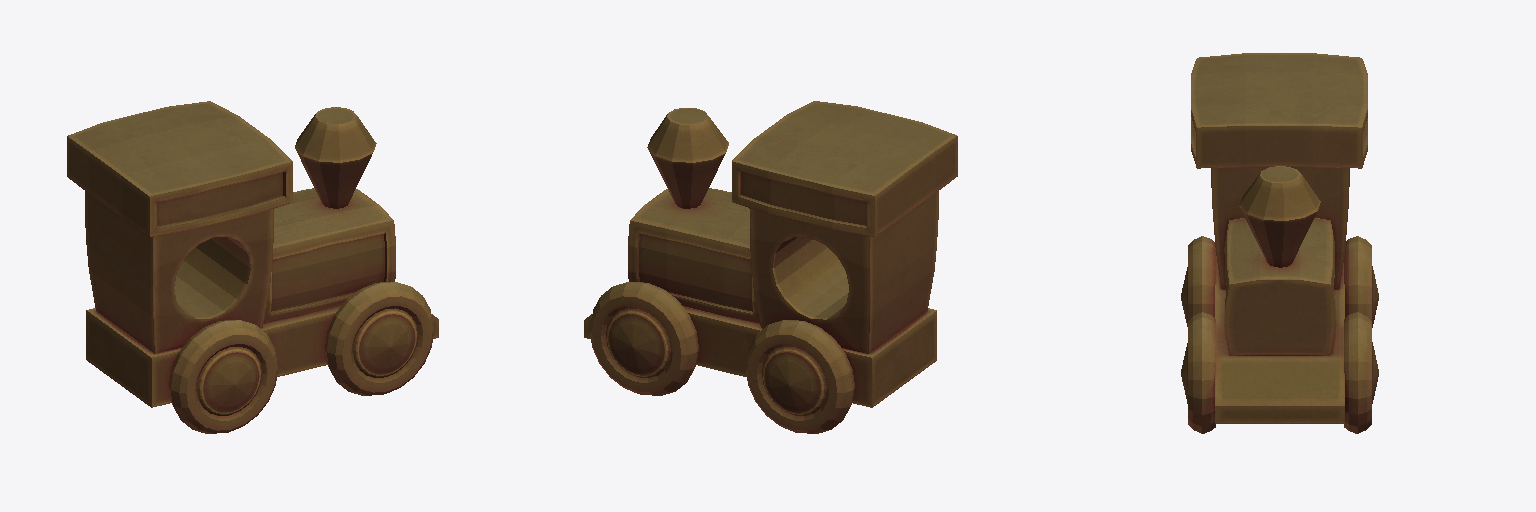
The picture shows the model from 3 angles: view 1: azimuth 30°, elevation 25°; view 2: azimuth 150°, elevation 25°; view 3: azimuth 270°, elevation 25°; orthographic projection.
Visible parts, largest first — view 1: pasted__pCube14_Mesh, pasted__polySurface2_Mesh.003, pasted__pCube16_Mesh.002, pasted__pCylinder13_Mesh.008, pasted__pCylinder12_Mesh.007, pasted__pCube15_Mesh.001, pasted__pCylinder6_Mesh.004; view 2: pasted__pCube14_Mesh, pasted__polySurface2_Mesh.003, pasted__pCube16_Mesh.002, pasted__pCylinder11_Mesh.006, pasted__pCylinder8_Mesh.005, pasted__pCube15_Mesh.001, pasted__pCylinder6_Mesh.004; view 3: pasted__pCube14_Mesh, pasted__pCube16_Mesh.002, pasted__pCube15_Mesh.001, pasted__pCylinder6_Mesh.004, pasted__polySurface2_Mesh.003, pasted__pCylinder8_Mesh.005, pasted__pCylinder12_Mesh.007, pasted__pCylinder13_Mesh.008, pasted__pCylinder11_Mesh.006.
Boxes of the visible parts, <box> form: pasted__pCube14_Mesh: <box>67,101,292,236</box>; pasted__polySurface2_Mesh.003: <box>85,191,273,353</box>; pasted__pCube16_Mesh.002: <box>263,188,395,323</box>; pasted__pCylinder13_Mesh.008: <box>169,320,277,433</box>; pasted__pCylinder12_Mesh.007: <box>325,282,433,395</box>; pasted__pCube15_Mesh.001: <box>86,306,438,407</box>; pasted__pCylinder6_Mesh.004: <box>295,107,376,208</box>; pasted__pCube14_Mesh: <box>732,101,957,236</box>; pasted__polySurface2_Mesh.003: <box>749,191,938,353</box>; pasted__pCube16_Mesh.002: <box>628,188,759,322</box>; pasted__pCylinder11_Mesh.006: <box>746,320,854,433</box>; pasted__pCylinder8_Mesh.005: <box>590,282,698,395</box>; pasted__pCube15_Mesh.001: <box>584,306,936,407</box>; pasted__pCylinder6_Mesh.004: <box>647,108,728,208</box>; pasted__pCube14_Mesh: <box>1191,53,1367,168</box>; pasted__pCube16_Mesh.002: <box>1224,218,1334,355</box>; pasted__pCube15_Mesh.001: <box>1215,256,1344,423</box>; pasted__pCylinder6_Mesh.004: <box>1239,166,1320,267</box>; pasted__polySurface2_Mesh.003: <box>1211,168,1349,289</box>; pasted__pCylinder8_Mesh.005: <box>1344,312,1378,433</box>; pasted__pCylinder12_Mesh.007: <box>1181,312,1215,433</box>; pasted__pCylinder13_Mesh.008: <box>1181,236,1215,326</box>; pasted__pCylinder11_Mesh.006: <box>1344,236,1378,327</box>.
Size of the model in its own units: 0.025 by 0.0207 by 0.0142.
Materials: 1 (1 with a texture image).